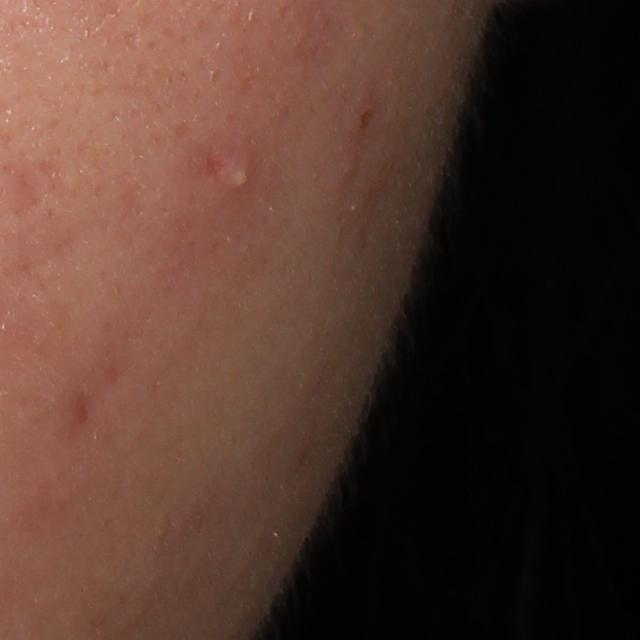pustule: (226, 158, 259, 196)
